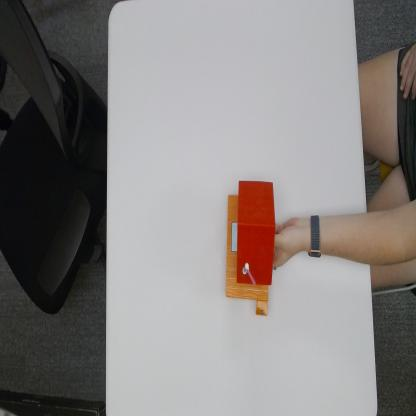Arm: (323, 209, 380, 264)
Hand: (272, 214, 304, 276)
House: (225, 177, 275, 317)
